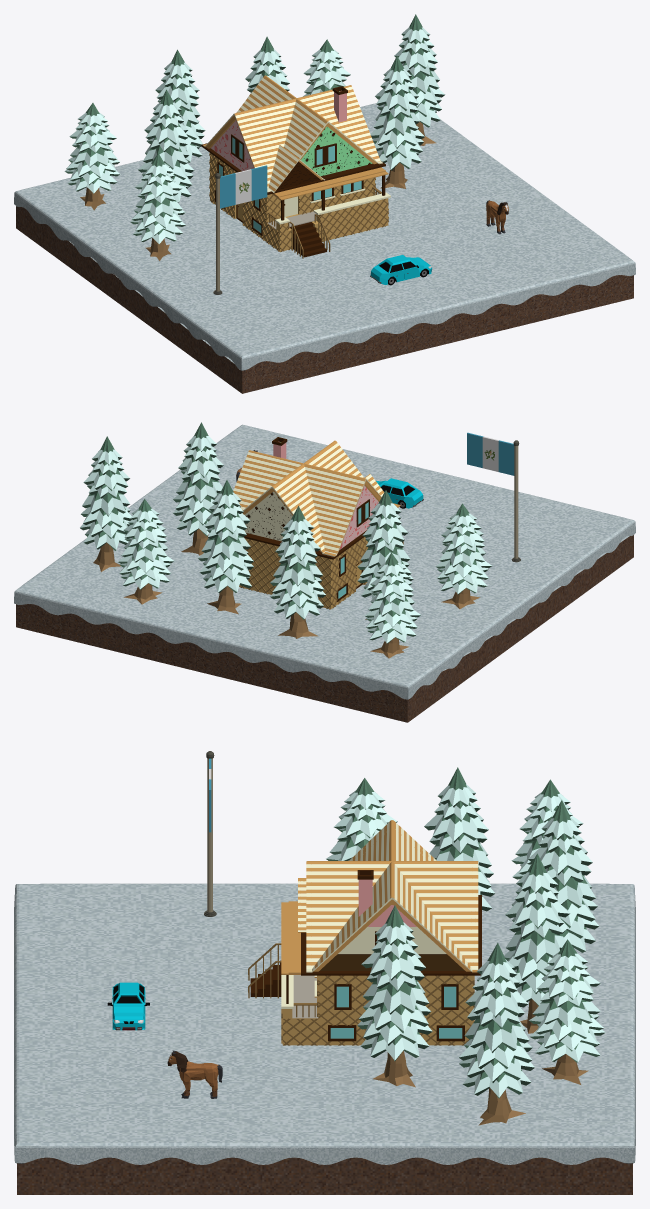
3 views of the same model, one above another, from view 1: azimuth 30°, elevation 25°; view 2: azimuth 150°, elevation 25°; view 3: azimuth 270°, elevation 25° (orthographic). The views are drawn at different scales.
Parts seen in each view (by area): view 1: Cube.003, Cube.1102, OBJRANDOM_GUATEMALAN_FLAG, VEHICLES_CAR, ANIMAL_CABALLO; view 2: Cube.003, Cube.1102, OBJRANDOM_GUATEMALAN_FLAG, VEHICLES_CAR; view 3: Cube.003, Cube.1102, VEHICLES_CAR, ANIMAL_CABALLO, OBJRANDOM_GUATEMALAN_FLAG.
Boxes of the visible parts, x1=… form: Cube.003: x1=14, y1=14, x2=635, y2=393; Cube.1102: x1=201, y1=75, x2=390, y2=258; OBJRANDOM_GUATEMALAN_FLAG: x1=213, y1=165, x2=267, y2=294; VEHICLES_CAR: x1=370, y1=255, x2=432, y2=285; ANIMAL_CABALLO: x1=486, y1=200, x2=508, y2=234; Cube.003: x1=14, y1=422, x2=635, y2=722; Cube.1102: x1=233, y1=437, x2=403, y2=609; OBJRANDOM_GUATEMALAN_FLAG: x1=467, y1=432, x2=520, y2=562; VEHICLES_CAR: x1=376, y1=478, x2=423, y2=508; Cube.003: x1=14, y1=767, x2=635, y2=1194; Cube.1102: x1=248, y1=820, x2=481, y2=1045; VEHICLES_CAR: x1=107, y1=982, x2=149, y2=1030; ANIMAL_CABALLO: x1=167, y1=1050, x2=222, y2=1098; OBJRANDOM_GUATEMALAN_FLAG: x1=204, y1=751, x2=216, y2=916.
Size of the model in its own units: 4040 by 1708 by 4040.
37 materials, 4 textured.
